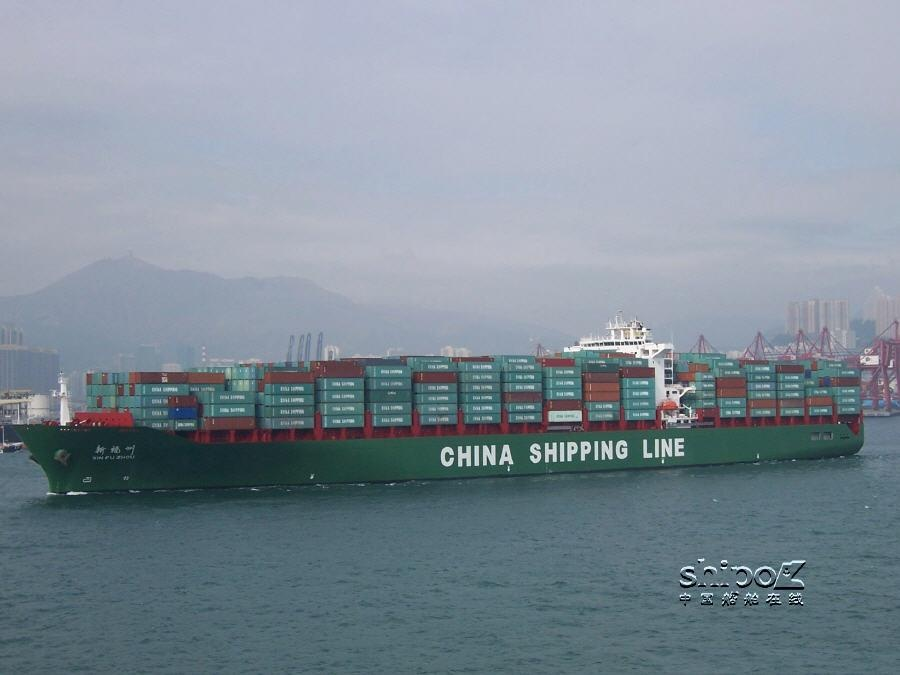Cargoship: (8, 306, 872, 515)
